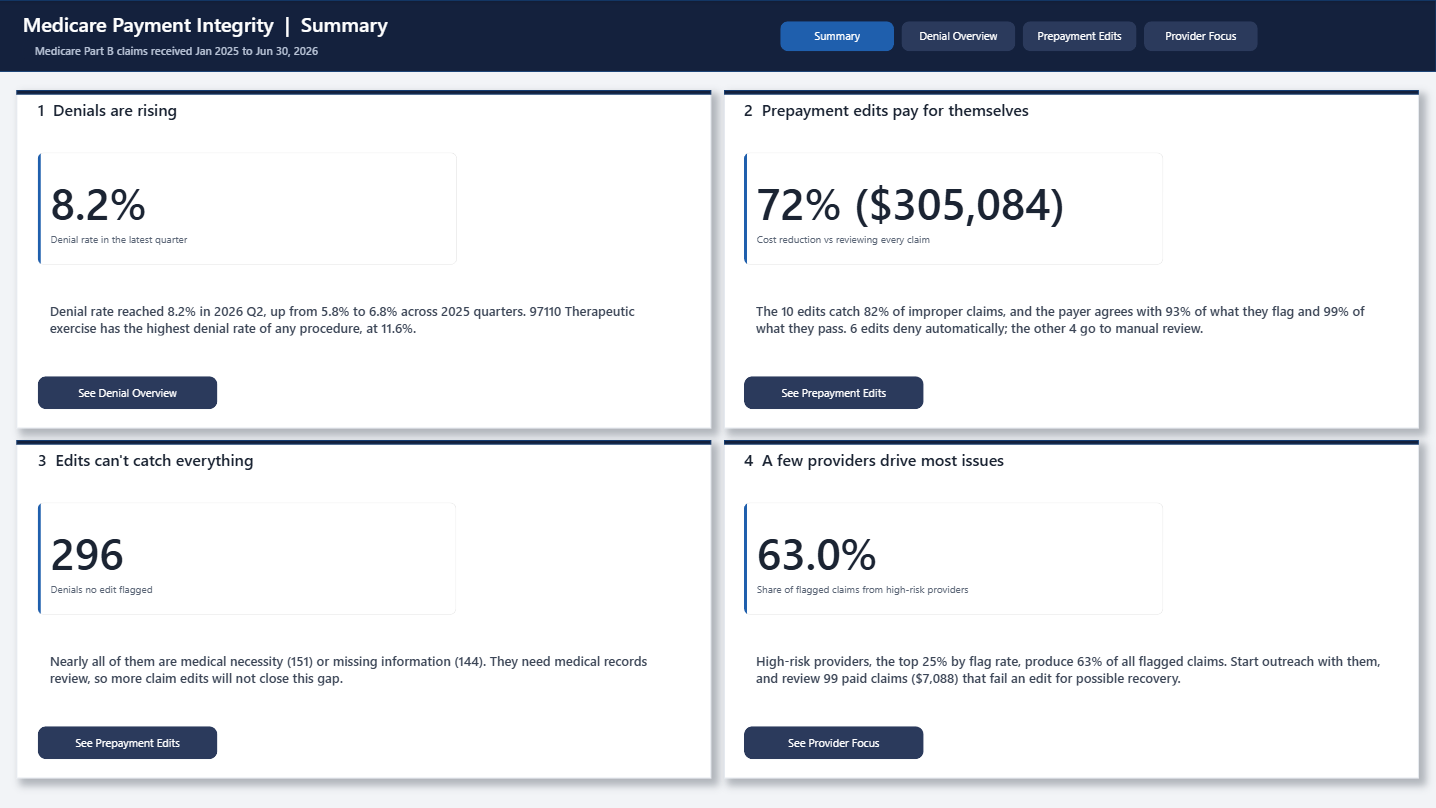

This screenshot's page, from the dashboard's own definition file:
{"tool":"powerbi","page":{"name":"Summary","canvas":[1920,1080],"ordinal":0},"visuals":[{"type":"shape","box":[0,0,1920,96],"z":1000},{"type":"textbox","box":[32,14,1000,36],"z":2000},{"type":"cardVisual","fields":{"Data":["_Measures.Report Scope Text"]},"box":[32,54,1000,28],"z":3000},{"type":"actionButton","box":[1044,28,152,40],"z":4000},{"type":"actionButton","box":[1206,28,152,40],"z":5000},{"type":"actionButton","box":[1368,28,152,40],"z":6000},{"type":"actionButton","box":[1530,28,152,40],"z":7000},{"type":"shape","box":[24,120,928,452],"z":9000},{"type":"shape","box":[24,120,928,6],"z":10000},{"type":"textbox","box":[52,132,870,40],"z":11000},{"type":"cardVisual","fields":{"Data":["_Measures.Latest Quarter Denial Rate"]},"box":[52,204,560,150],"z":12000},{"type":"cardVisual","fields":{"Data":["_Measures.Summary Takeaway 1"]},"box":[52,370,870,110],"z":13000},{"type":"actionButton","box":[52,502,240,44],"z":14000},{"type":"shape","box":[968,120,928,452],"z":15000},{"type":"shape","box":[968,120,928,6],"z":16000},{"type":"textbox","box":[996,132,870,40],"z":17000},{"type":"cardVisual","fields":{"Data":["_Measures.Cost Reduction Label"]},"box":[996,204,560,150],"z":18000},{"type":"cardVisual","fields":{"Data":["_Measures.Summary Takeaway 2"]},"box":[996,370,870,110],"z":19000},{"type":"actionButton","box":[996,502,240,44],"z":20000},{"type":"shape","box":[24,588,928,452],"z":21000},{"type":"shape","box":[24,588,928,6],"z":22000},{"type":"textbox","box":[52,600,870,40],"z":23000},{"type":"cardVisual","fields":{"Data":["_Measures.Missed Denials"]},"box":[52.3,671.5,559.9,150],"z":24000},{"type":"cardVisual","fields":{"Data":["_Measures.Summary Takeaway 3"]},"box":[52,838,870,110],"z":25000},{"type":"actionButton","box":[52,970,240,44],"z":26000},{"type":"shape","box":[968,588,928,452],"z":27000},{"type":"shape","box":[968,588,928,6],"z":28000},{"type":"textbox","box":[996,600,870,40],"z":29000},{"type":"cardVisual","fields":{"Data":["_Measures.High-Risk Flag Share"]},"box":[996,672,560,150],"z":30000},{"type":"cardVisual","fields":{"Data":["_Measures.Summary Takeaway 4"]},"box":[996,838,870,110],"z":31000},{"type":"actionButton","box":[996,970,240,44],"z":32000}]}

Visuals, with their boxes in screenshot pixels (x1, y1, x2, y2), scaled from the page's 1920x1080 canvas onto the 1436x808 screenshot:
shape: bbox=[0, 0, 1435, 72]
textbox: bbox=[24, 10, 772, 37]
cardVisual - _Measures.Report Scope Text: bbox=[24, 40, 772, 61]
actionButton: bbox=[781, 21, 895, 51]
actionButton: bbox=[902, 21, 1016, 51]
actionButton: bbox=[1023, 21, 1137, 51]
actionButton: bbox=[1144, 21, 1258, 51]
shape: bbox=[18, 90, 712, 428]
shape: bbox=[18, 90, 712, 94]
textbox: bbox=[39, 99, 690, 129]
cardVisual - _Measures.Latest Quarter Denial Rate: bbox=[39, 153, 458, 265]
cardVisual - _Measures.Summary Takeaway 1: bbox=[39, 277, 690, 359]
actionButton: bbox=[39, 376, 218, 408]
shape: bbox=[724, 90, 1418, 428]
shape: bbox=[724, 90, 1418, 94]
textbox: bbox=[745, 99, 1396, 129]
cardVisual - _Measures.Cost Reduction Label: bbox=[745, 153, 1164, 265]
cardVisual - _Measures.Summary Takeaway 2: bbox=[745, 277, 1396, 359]
actionButton: bbox=[745, 376, 924, 408]
shape: bbox=[18, 440, 712, 778]
shape: bbox=[18, 440, 712, 444]
textbox: bbox=[39, 449, 690, 479]
cardVisual - _Measures.Missed Denials: bbox=[39, 502, 458, 615]
cardVisual - _Measures.Summary Takeaway 3: bbox=[39, 627, 690, 709]
actionButton: bbox=[39, 726, 218, 759]
shape: bbox=[724, 440, 1418, 778]
shape: bbox=[724, 440, 1418, 444]
textbox: bbox=[745, 449, 1396, 479]
cardVisual - _Measures.High-Risk Flag Share: bbox=[745, 503, 1164, 615]
cardVisual - _Measures.Summary Takeaway 4: bbox=[745, 627, 1396, 709]
actionButton: bbox=[745, 726, 924, 759]
